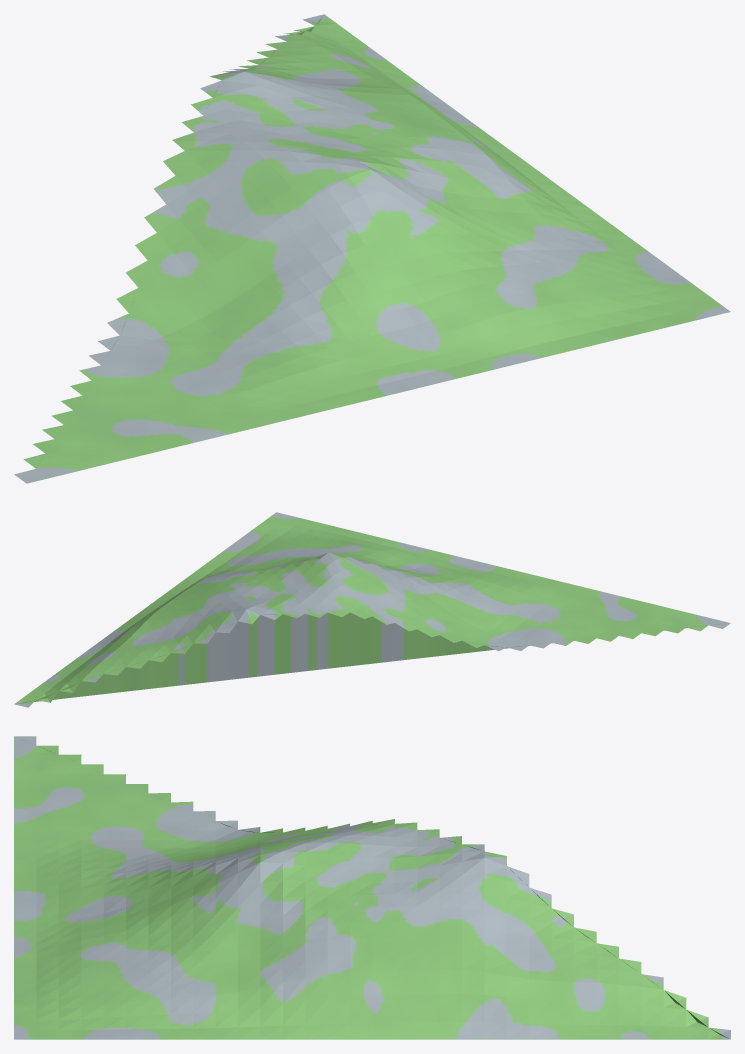
The model's file is Grass_RockyGround_12_NE.obj.
3 renders of one model, top to bottom at view 1: azimuth 30°, elevation 25°; view 2: azimuth 150°, elevation 25°; view 3: azimuth 270°, elevation 25°, orthographic. The views are drawn at different scales.
Bounding box in the file's own units: 10 × 1.34 × 10.
Materials: 1 (1 with a texture image).
